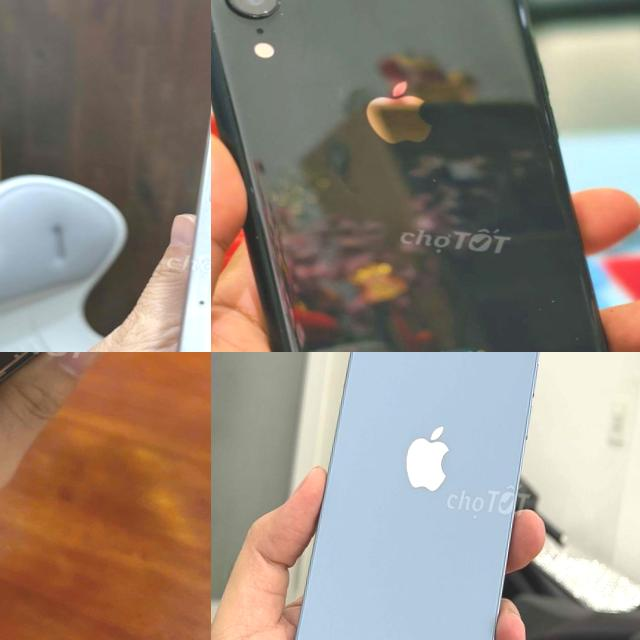gen_12_13: (0, 352, 158, 527)
gen_14: (281, 352, 552, 640)
gen_15: (100, 21, 211, 352)
gen_x_xs: (211, 0, 640, 352)
